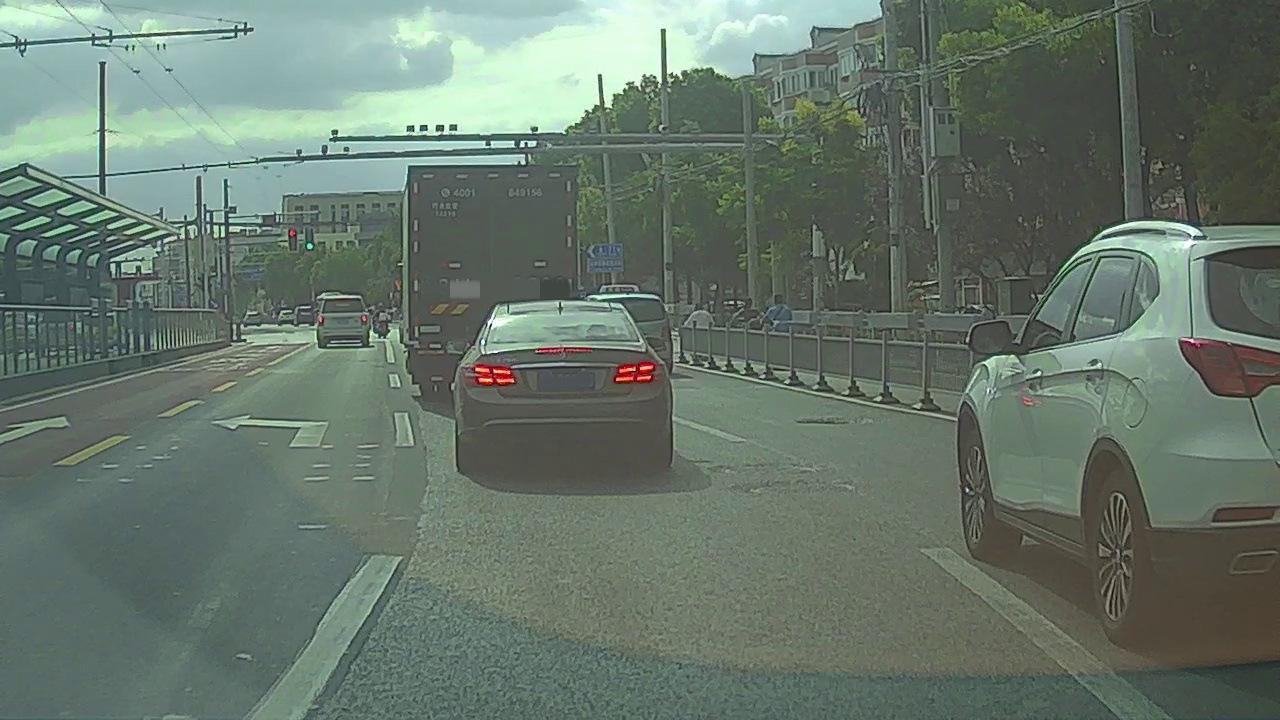traffic_light: (288, 229, 298, 251), (305, 227, 314, 251)
